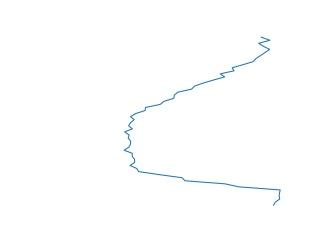underwaterDistributaryChannel: (120, 36, 285, 207)
